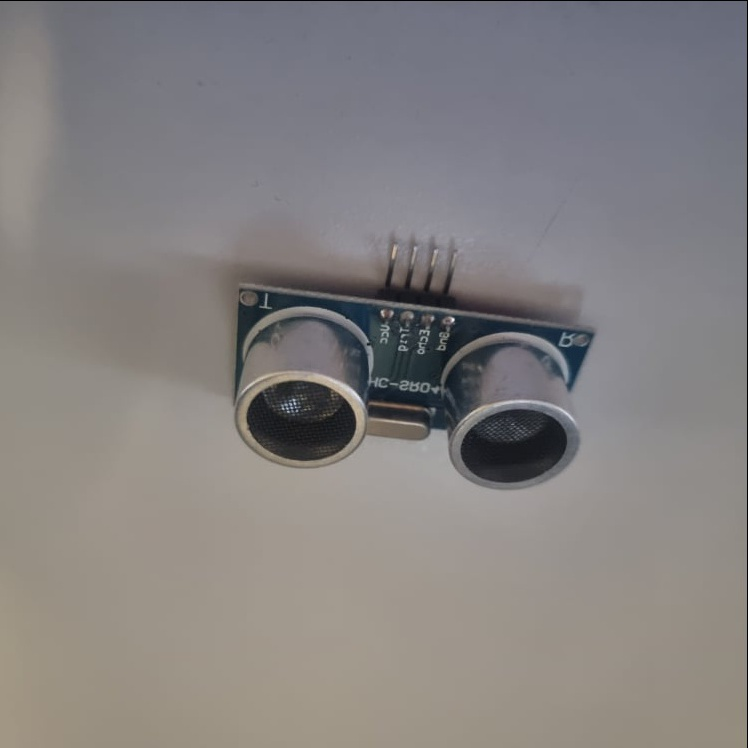SENSOR: (235, 245, 602, 489)
